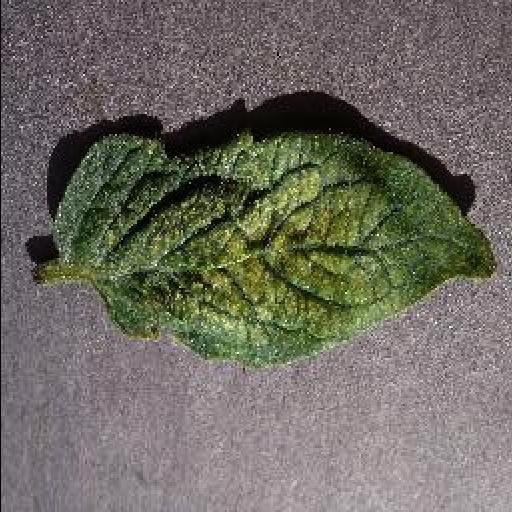disease_tomato: (54, 127, 502, 366)
